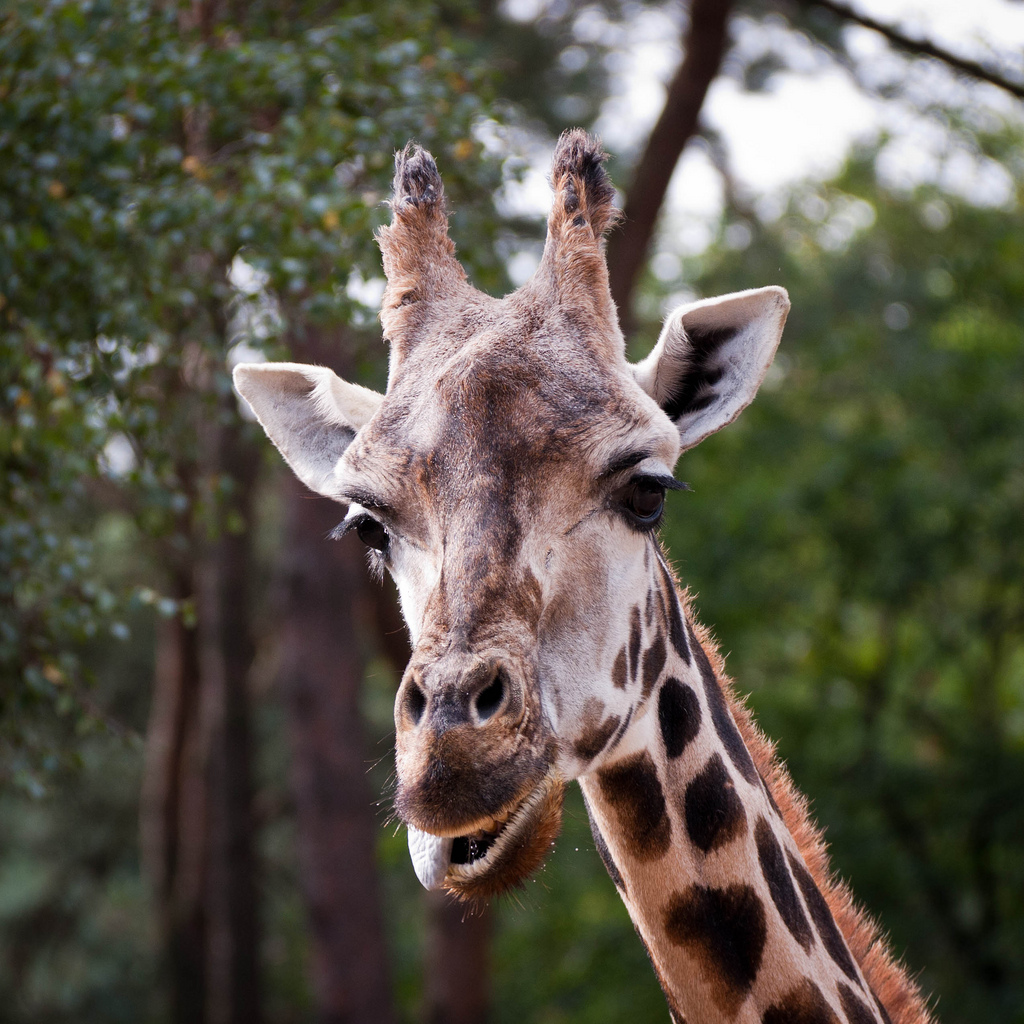giraffe: (241, 125, 885, 1004)
